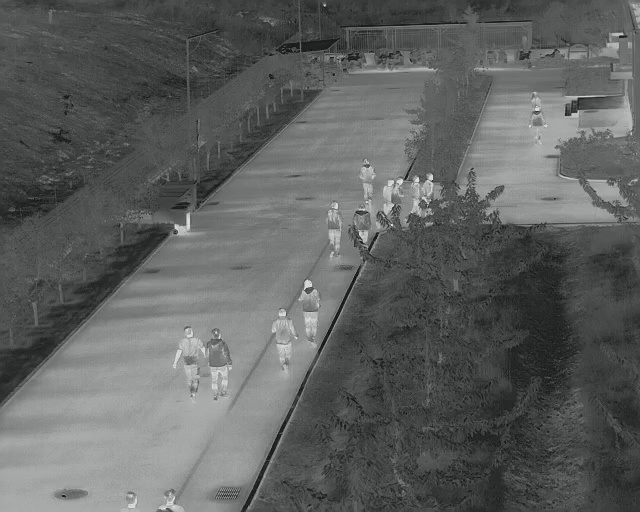person: (171, 324, 208, 402), (203, 328, 234, 402), (270, 307, 298, 377), (297, 278, 323, 349), (325, 200, 344, 260), (527, 104, 549, 149), (357, 157, 377, 204), (353, 203, 371, 253), (422, 171, 436, 216), (409, 174, 423, 219), (383, 177, 396, 221), (395, 176, 405, 220)
